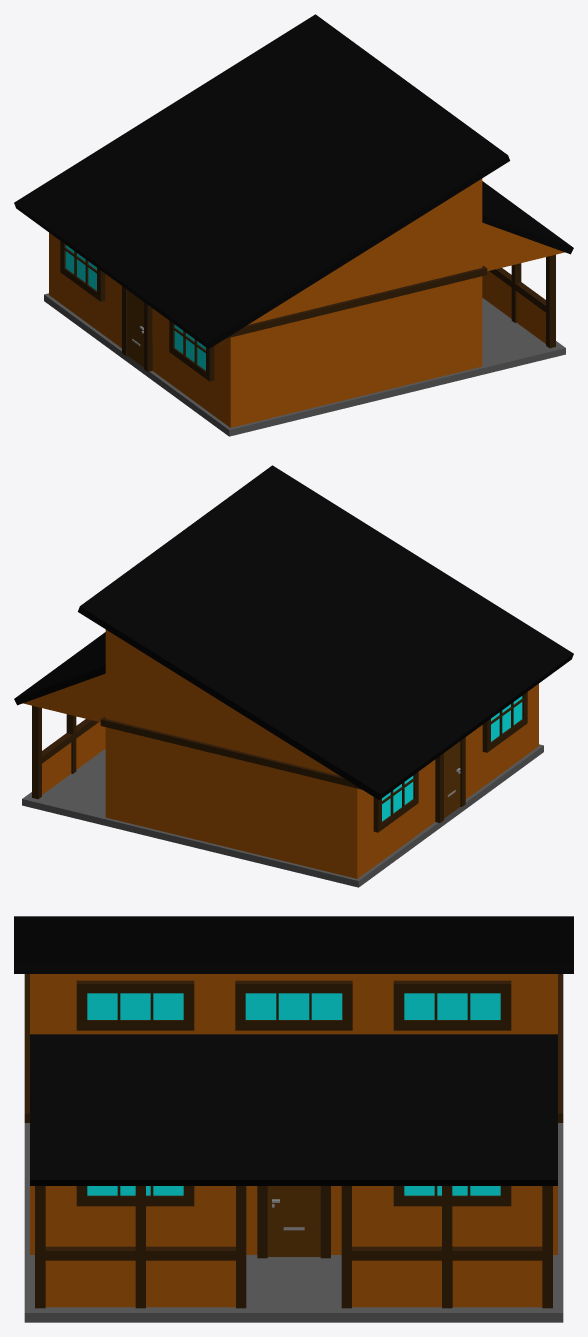
The model's file is house_004_connected.fbx.
The picture shows the model from 3 angles, top to bottom: view 1: azimuth 30°, elevation 25°; view 2: azimuth 150°, elevation 25°; view 3: azimuth 270°, elevation 25°; orthographic projection. The views are drawn at different scales.
Visible parts, largest first — view 1: Cube.018; view 2: Cube.018; view 3: Cube.018.
Boxes of the visible parts, <box> form: Cube.018: <box>14,14,573,436</box>; Cube.018: <box>14,465,573,887</box>; Cube.018: <box>14,916,573,1322</box>.
Size of the model in its own units: 1060 by 659 by 1185.
